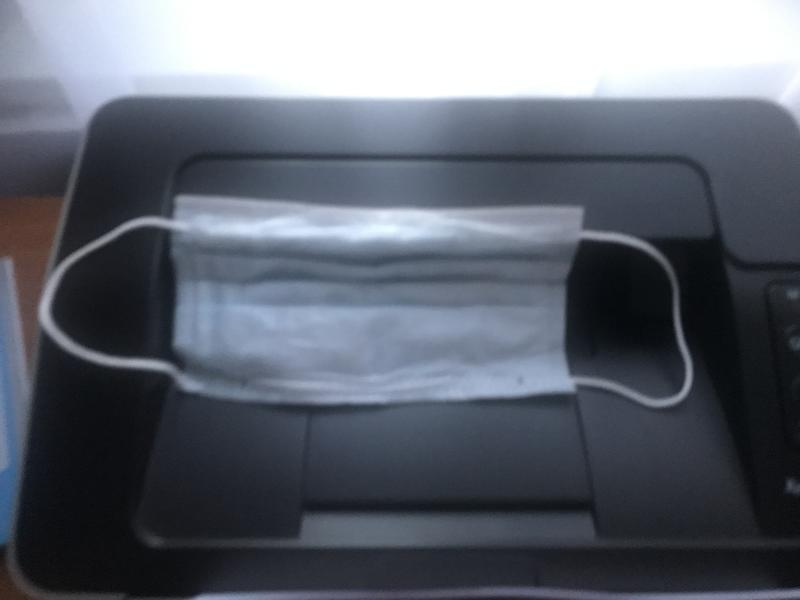medical_mask: (41, 193, 696, 410)
